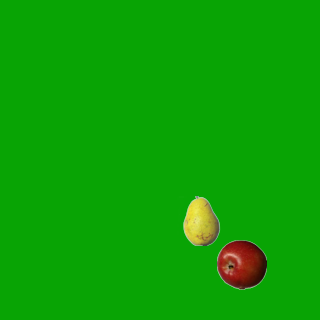Apple Braeburn: (216, 239, 266, 289)
Pear Monster: (176, 195, 226, 245)
